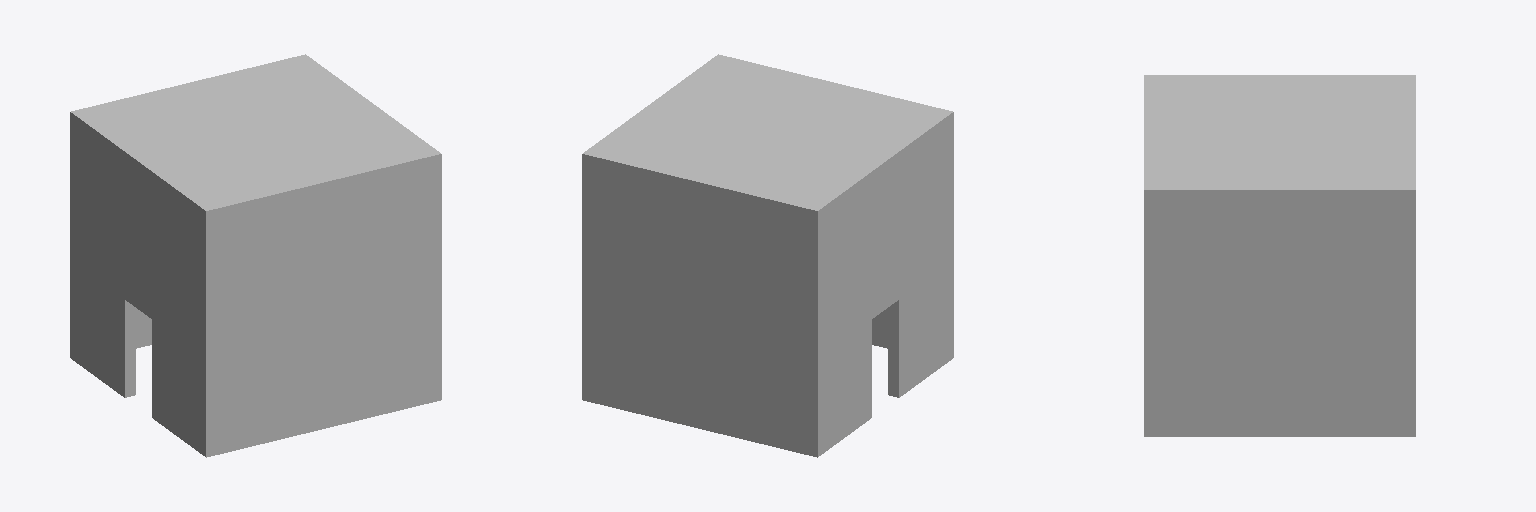
File: a_house.obj
3 renders of one model, left to right at view 1: azimuth 30°, elevation 25°; view 2: azimuth 150°, elevation 25°; view 3: azimuth 270°, elevation 25°, orthographic.
Parts seen in each view (by area): view 1: a_house; view 2: a_house; view 3: a_house.
Boxes of the visible parts, x1,y1,x2,y2 form: a_house: [70, 54, 441, 457]; a_house: [582, 54, 953, 457]; a_house: [1144, 75, 1415, 436].
Size of the model in its own units: 100 by 100 by 100.